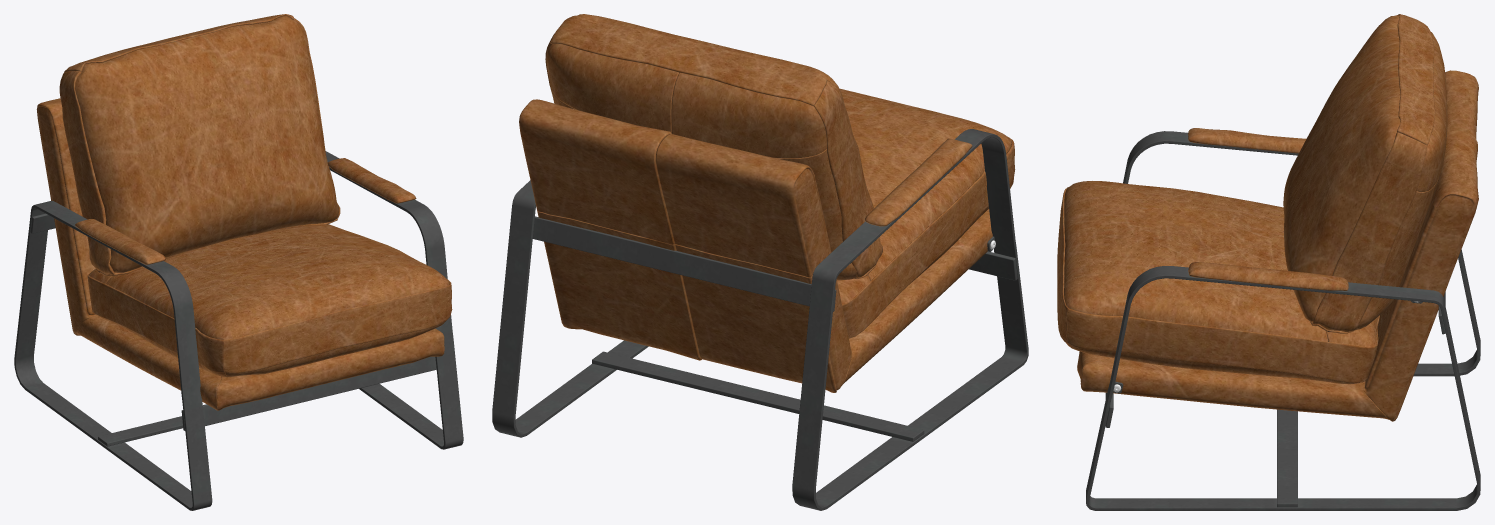
File: summit_leather_steel_accent_chair.glb
The picture shows the model from 3 angles, left to right: view 1: azimuth 30°, elevation 25°; view 2: azimuth 150°, elevation 25°; view 3: azimuth 270°, elevation 25°; orthographic projection. The views are drawn at different scales.
Visible parts, largest first — view 1: RootNode; view 2: RootNode; view 3: RootNode.
Part boxes in pixels (x1,y1,x2,y2): RootNode: (14,14,463,510); RootNode: (492,14,1028,510); RootNode: (1057,14,1480,510).
Size of the model in its own units: 0.6511 by 0.7772 by 0.8007.
1 material, 1 textured.
